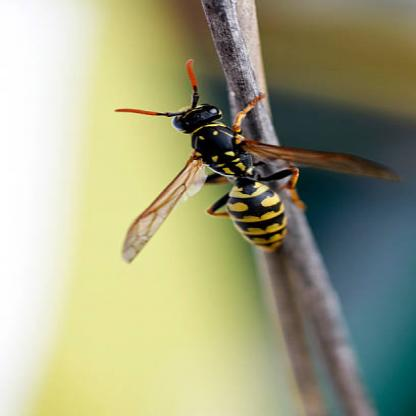sawfly: (102, 60, 394, 266)
